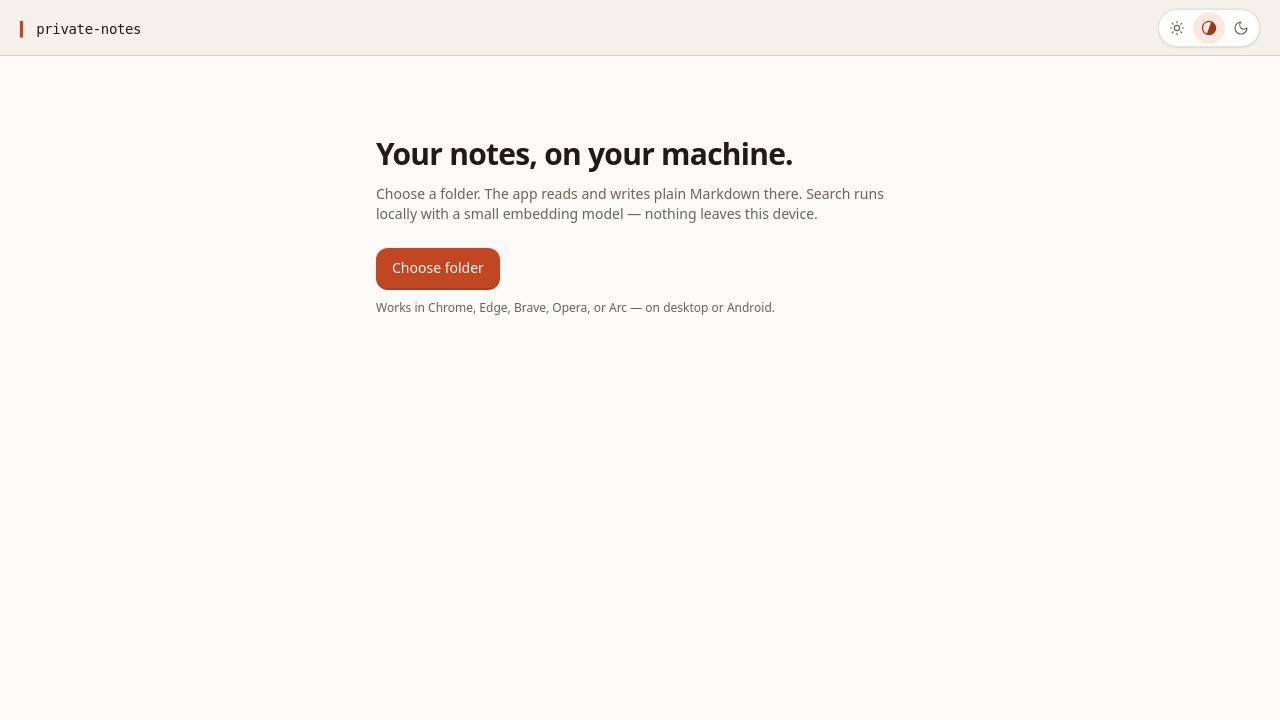
Test: App error handling integration › Welcome screen › surfaces open-vault failures on Welcome
Check: the heading "Your notes, on your machine." is shown, box [376,133,793,174]
Click the button "Choose folder" at (438, 268), box [376,248,500,288]
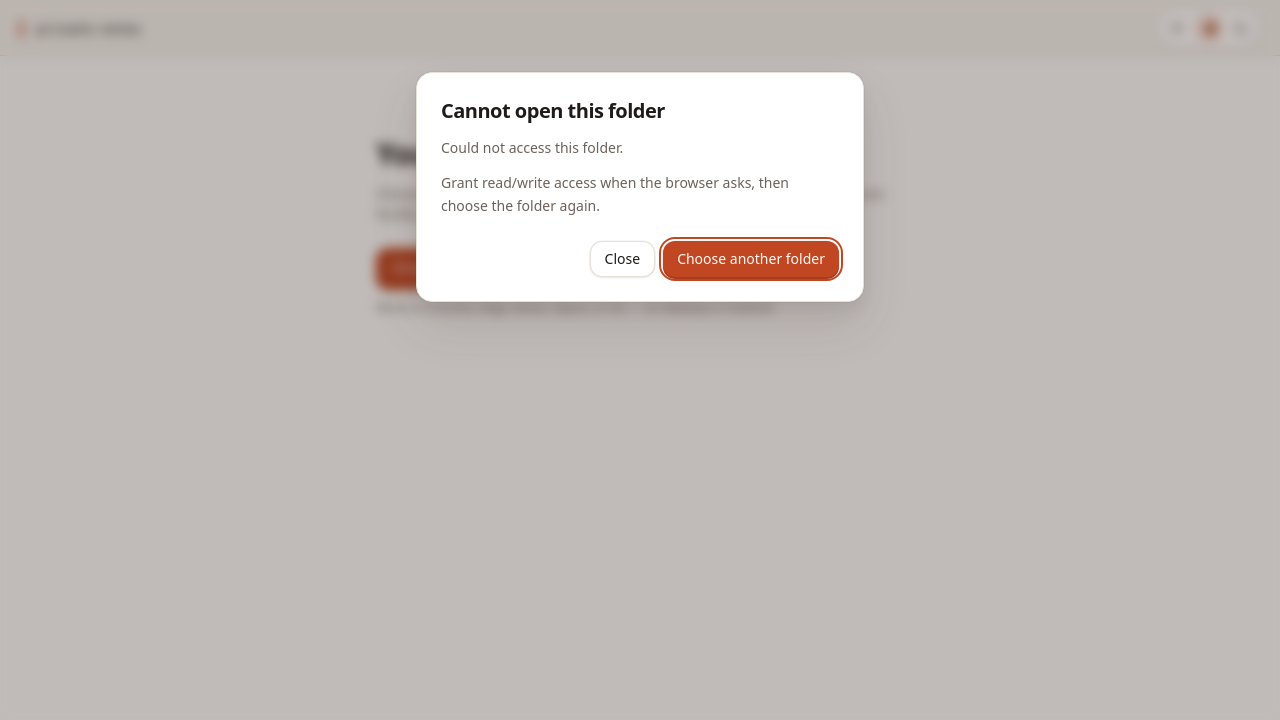
Check: the dialog "Cannot open this folder" is shown, box [416,72,864,302]
Check: the text "Could not access this folder." is shown, box [441,138,623,157]
Check: the text "Grant read/write access when the browser asks" is shown, box [441,173,789,215]
